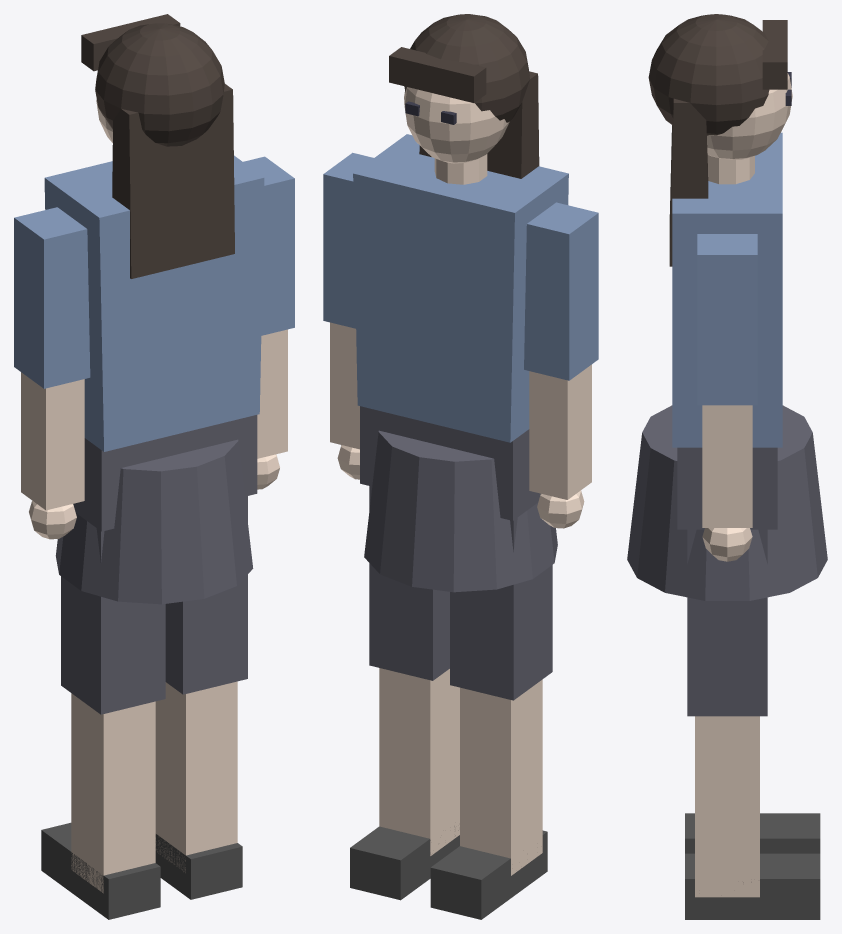
Rendered from Character_Female.fbx.
The picture shows the model from 3 angles, left to right: view 1: azimuth 30°, elevation 25°; view 2: azimuth 150°, elevation 25°; view 3: azimuth 270°, elevation 25°; orthographic projection. The views are drawn at different scales.
Visible parts, largest first — view 1: Chest, Skirt, LongHair, Shin_L, Shin_R, UpperArm_L, Hair, Thigh_L, Forearm_L, Thigh_R, Pelvis, UpperArm_R (+6 smaller); view 2: Chest, Skirt, Shin_L, Shin_R, UpperArm_L, Thigh_L, Forearm_L, Thigh_R, Hair, Pelvis, Shoe_L, UpperArm_R (+8 smaller); view 3: Skirt, Chest, Shin_R, Hair, UpperArm_R, Thigh_R, Forearm_R, Shoe_R, Pelvis, LongHair, HeadMesh, Shoe_L (+3 smaller).
Boxes of the visible parts, box(x1,y1,x2,y2) form: Chest: box(44, 155, 264, 451); Skirt: box(55, 439, 253, 604); LongHair: box(112, 84, 234, 278); Shin_L: box(71, 693, 155, 893); Shin_R: box(155, 681, 237, 872); UpperArm_L: box(14, 207, 90, 388); Hair: box(95, 23, 224, 146); Thigh_L: box(61, 528, 165, 714); Forearm_L: box(21, 372, 84, 510); Thigh_R: box(165, 496, 247, 694); Pelvis: box(73, 415, 257, 531); UpperArm_R: box(243, 156, 294, 335); Chest: box(353, 134, 568, 442); Skirt: box(364, 430, 557, 592); Shin_L: box(460, 679, 542, 875); Shin_R: box(379, 668, 459, 855); UpperArm_L: box(524, 202, 598, 380); Thigh_L: box(450, 518, 552, 700); Forearm_L: box(529, 364, 591, 499); Thigh_R: box(369, 486, 449, 680); Hair: box(404, 14, 529, 122); Pelvis: box(360, 406, 540, 520); Shoe_L: box(430, 830, 547, 919); UpperArm_R: box(323, 152, 373, 328); Skirt: box(627, 405, 827, 600); Chest: box(672, 132, 782, 447); Shin_R: box(695, 716, 759, 897); Hair: box(648, 14, 769, 135); UpperArm_R: box(697, 234, 757, 405); Thigh_R: box(687, 529, 767, 716); Forearm_R: box(702, 405, 752, 527); Shoe_R: box(685, 853, 820, 919); Pelvis: box(677, 447, 777, 529); LongHair: box(669, 98, 708, 266); HeadMesh: box(707, 73, 792, 159); Shoe_L: box(685, 813, 820, 853).
Size of the model in its own units: 0.58 by 0.4 by 1.91.
